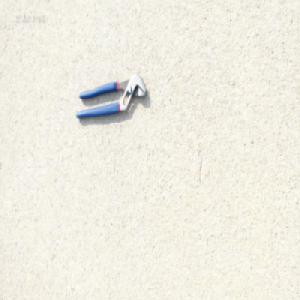Pliers: (73, 72, 146, 120)
